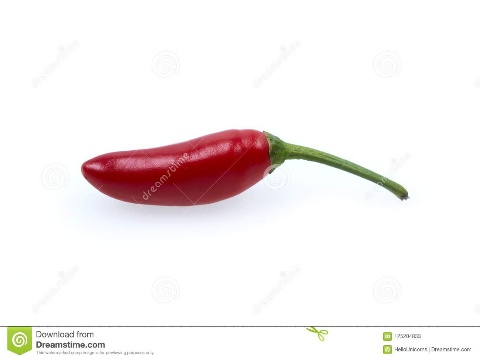Chilli: (70, 123, 373, 221)
